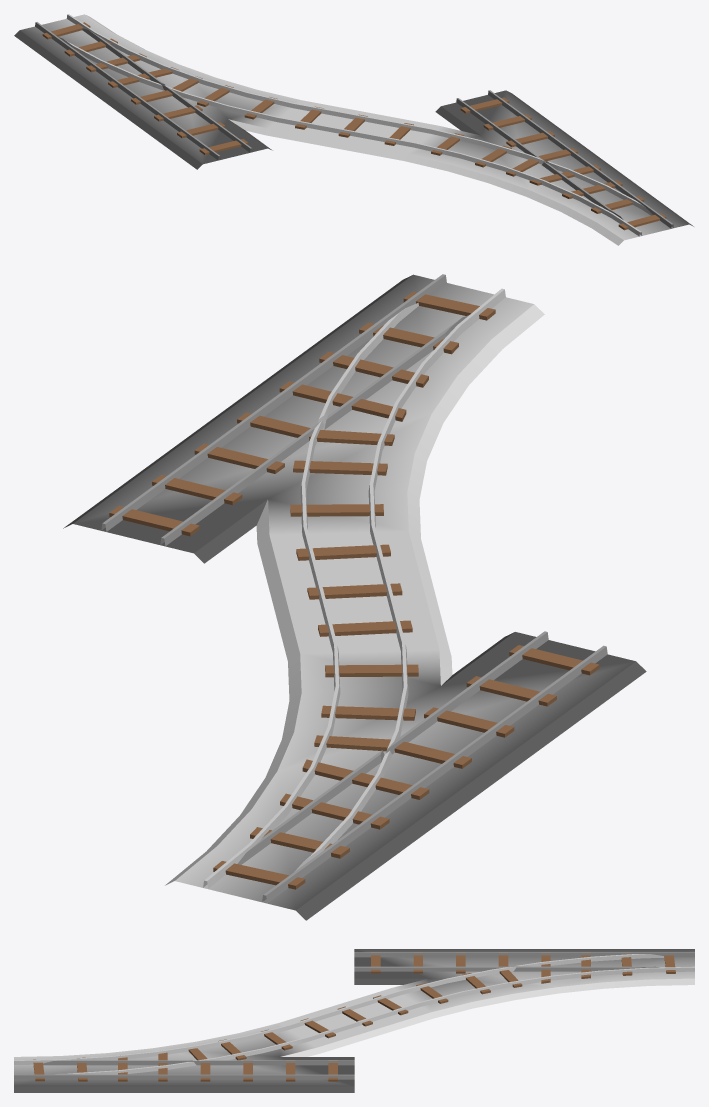
File: 1_switch_right.fbx
3 views of the same model, one above another, from view 1: azimuth 30°, elevation 25°; view 2: azimuth 150°, elevation 25°; view 3: azimuth 270°, elevation 25° (orthographic). The views are drawn at different scales.
Visible parts, largest first — view 1: 1_switch_right; view 2: 1_switch_right; view 3: 1_switch_right.
Boxes of the visible parts, bbox=[...] form: 1_switch_right: bbox=[14, 14, 693, 245]; 1_switch_right: bbox=[63, 274, 646, 920]; 1_switch_right: bbox=[14, 949, 694, 1092].
Size of the model in its own units: 7.93 by 0.2 by 16.
